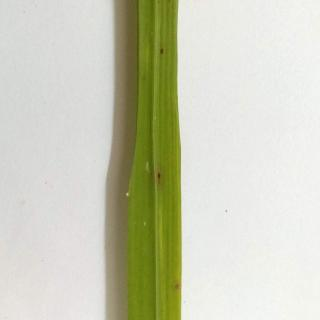bercak-Cokelat: (154, 167, 167, 189), (159, 46, 169, 59), (175, 281, 181, 294)
